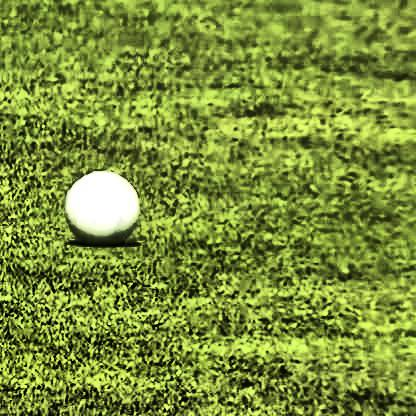golfball: (66, 180, 131, 239)
